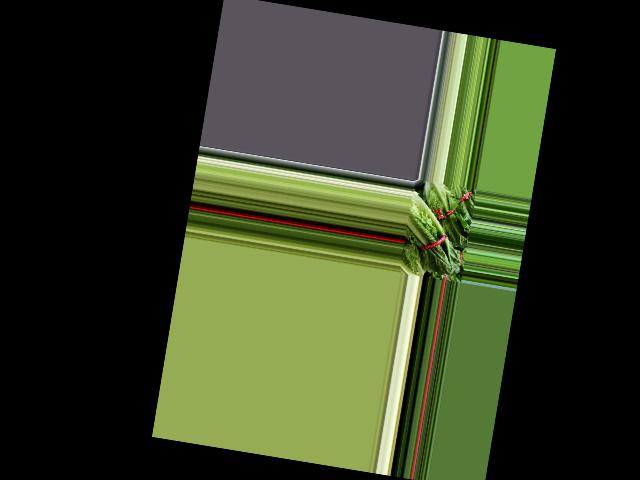lettuce: (399, 192, 471, 278)
